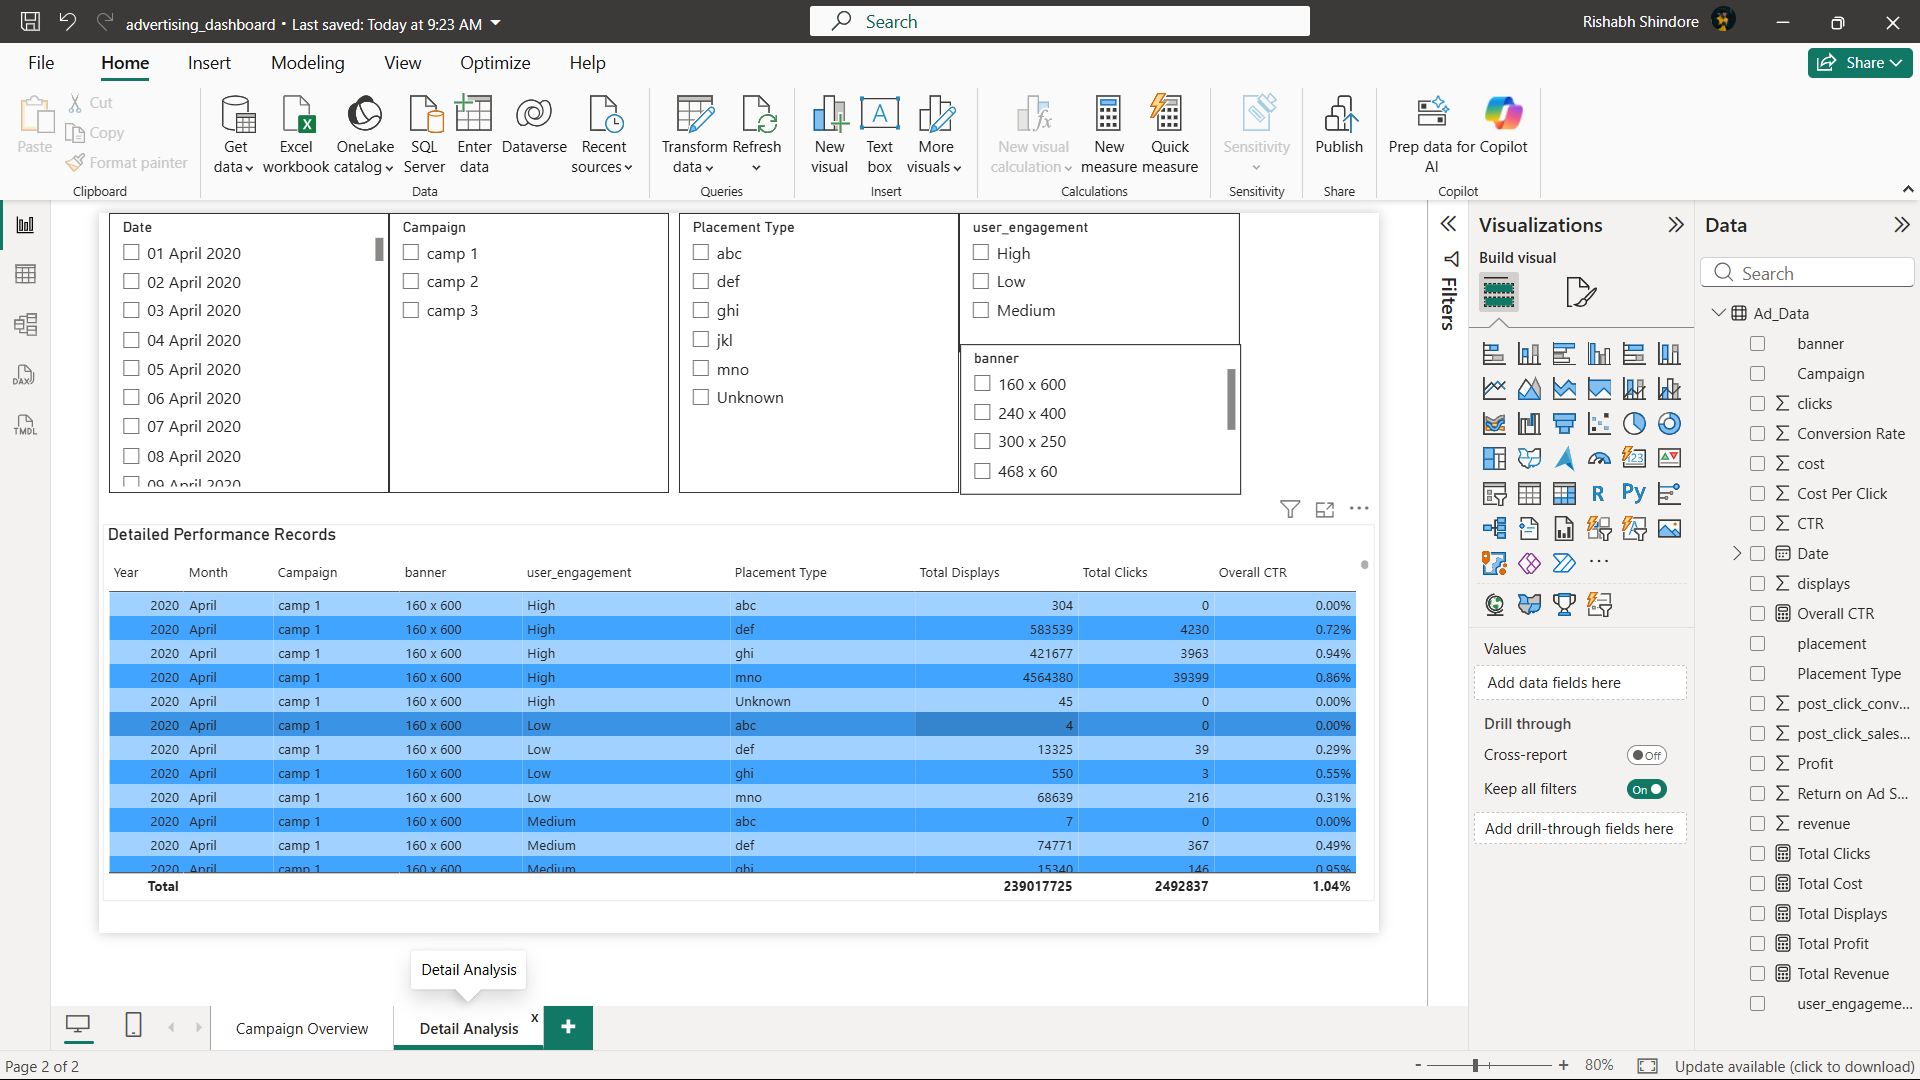

Layout of this report page (visuals, bound fields, positions):
{"tool":"powerbi","page":{"name":"Detail Analysis","canvas":[1280,720],"ordinal":1},"visuals":[{"type":"slicer","fields":{"Values":["Ad_Data.Date"]},"box":[10,0,280,280],"z":0},{"type":"slicer","fields":{"Values":["Ad_Data.Placement Type"]},"box":[580.4,0,280,280],"z":1},{"type":"slicer","fields":{"Values":["Ad_Data.user_engagement"]},"box":[859.6,0,280.9,139.6],"z":2},{"type":"slicer","fields":{"Values":["Ad_Data.Campaign"]},"box":[289.5,0,280,280],"z":3},{"type":"tableEx","title":"Detailed Performance Records","fields":{"Values":["Ad_Data.Date.Variation.Date Hierarchy.Year","Ad_Data.Date.Variation.Date Hierarchy.Month","Ad_Data.Campaign","Ad_Data.banner","Ad_Data.user_engagement","Ad_Data.Placement Type","Ad_Data.Total Displays","Ad_Data.Total Clicks","Ad_Data.Overall CTR"]},"box":[4.3,310.7,1271.5,377.9],"z":4},{"type":"slicer","fields":{"Values":["Ad_Data.banner"]},"box":[861.3,131.1,281,150],"z":5}]}

Visuals, with their boxes on the page's 1280x720 design canvas (x1, y1, x2, y2). These are canvas units, not pixel positions in the 1920x1080 screenshot, which may show the page scaled, cropped or inside an application window:
slicer - Ad_Data.Date: l=10, t=0, r=290, b=280
slicer - Ad_Data.Placement Type: l=580, t=0, r=860, b=280
slicer - Ad_Data.user_engagement: l=860, t=0, r=1140, b=140
slicer - Ad_Data.Campaign: l=290, t=0, r=570, b=280
"Detailed Performance Records" tableEx: l=4, t=311, r=1276, b=689
slicer - Ad_Data.banner: l=861, t=131, r=1142, b=281
